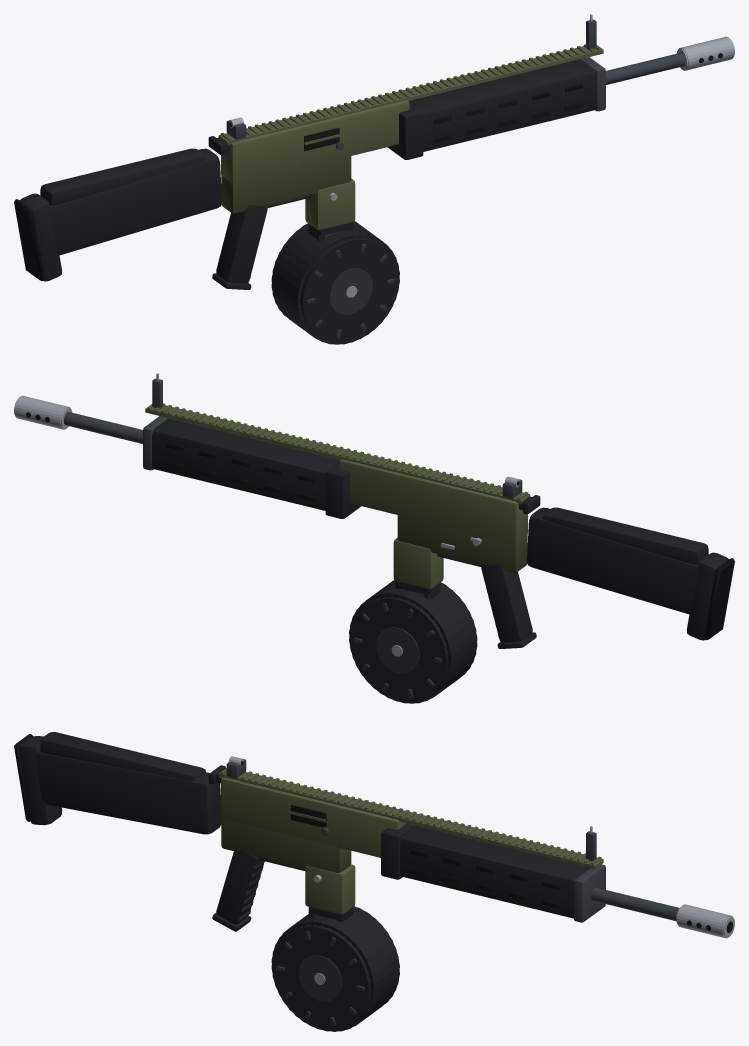
The picture shows the model from 3 angles, top to bottom: view 1: azimuth 30°, elevation 25°; view 2: azimuth 150°, elevation 25°; view 3: azimuth 330°, elevation 25°; orthographic projection.
Parts seen in each view (by area): view 1: br12_body, br12_stock, mag_drum; view 2: br12_body, br12_stock, mag_drum; view 3: br12_body, br12_stock, mag_drum.
Boxes of the visible parts, x1,y1,x2,y2 form: br12_body: [208, 14, 734, 289]; br12_stock: [14, 148, 221, 281]; mag_drum: [271, 221, 399, 344]; br12_body: [14, 373, 540, 648]; br12_stock: [527, 507, 734, 640]; mag_drum: [349, 580, 477, 703]; br12_body: [208, 756, 734, 938]; br12_stock: [14, 732, 221, 834]; mag_drum: [271, 906, 399, 1031].
Size of the model in its own units: 1.04 by 0.3581 by 0.082.
